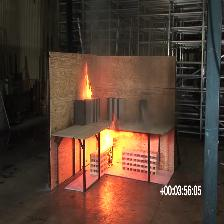fire: (99, 113, 142, 166), (84, 62, 93, 99)
